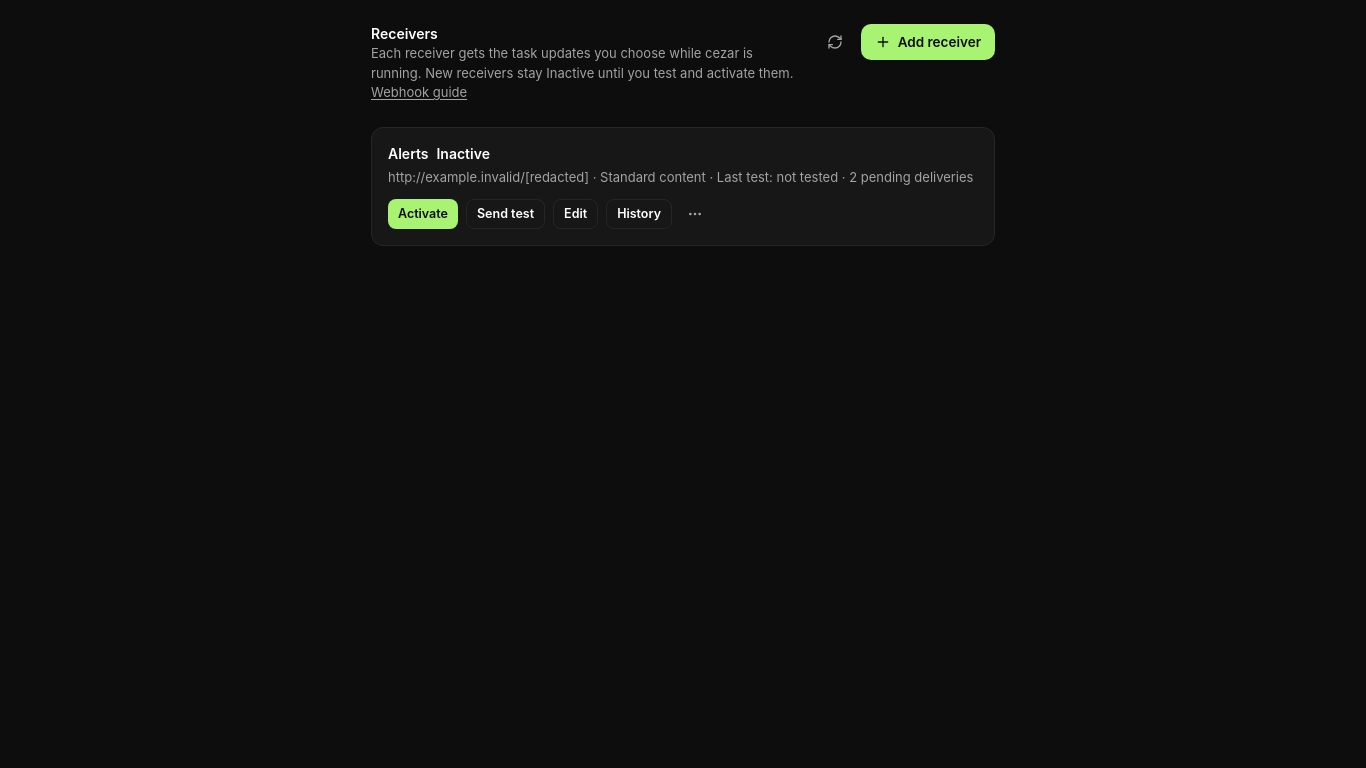
Test: independent webhook UI corrections › keeps stale edits blocked after cancelling review when the receiver was deleted
Click the button "Edit". click: (576, 214)
box: [553,199,598,229]
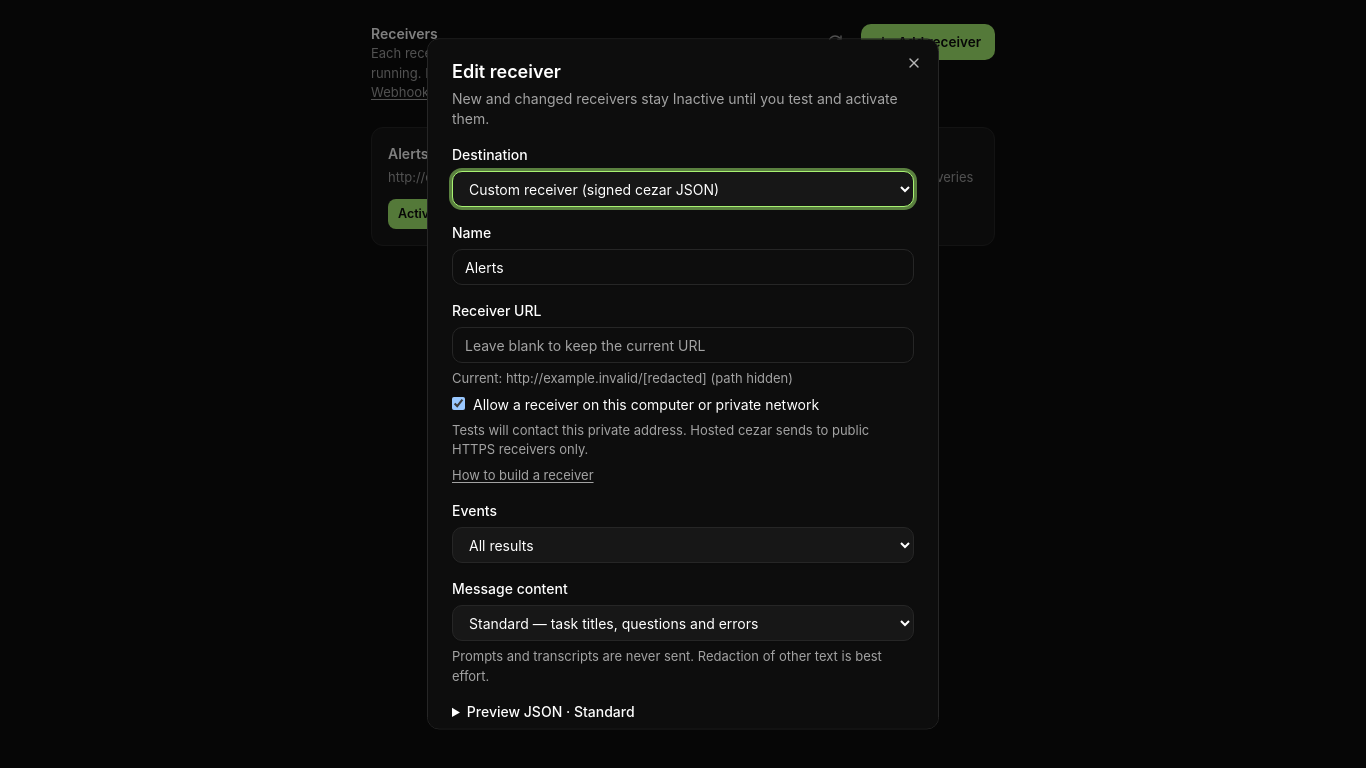
Replace the text in the field labelled "Name" with "My draft". click: (683, 267)
box: [452,249,914,285]
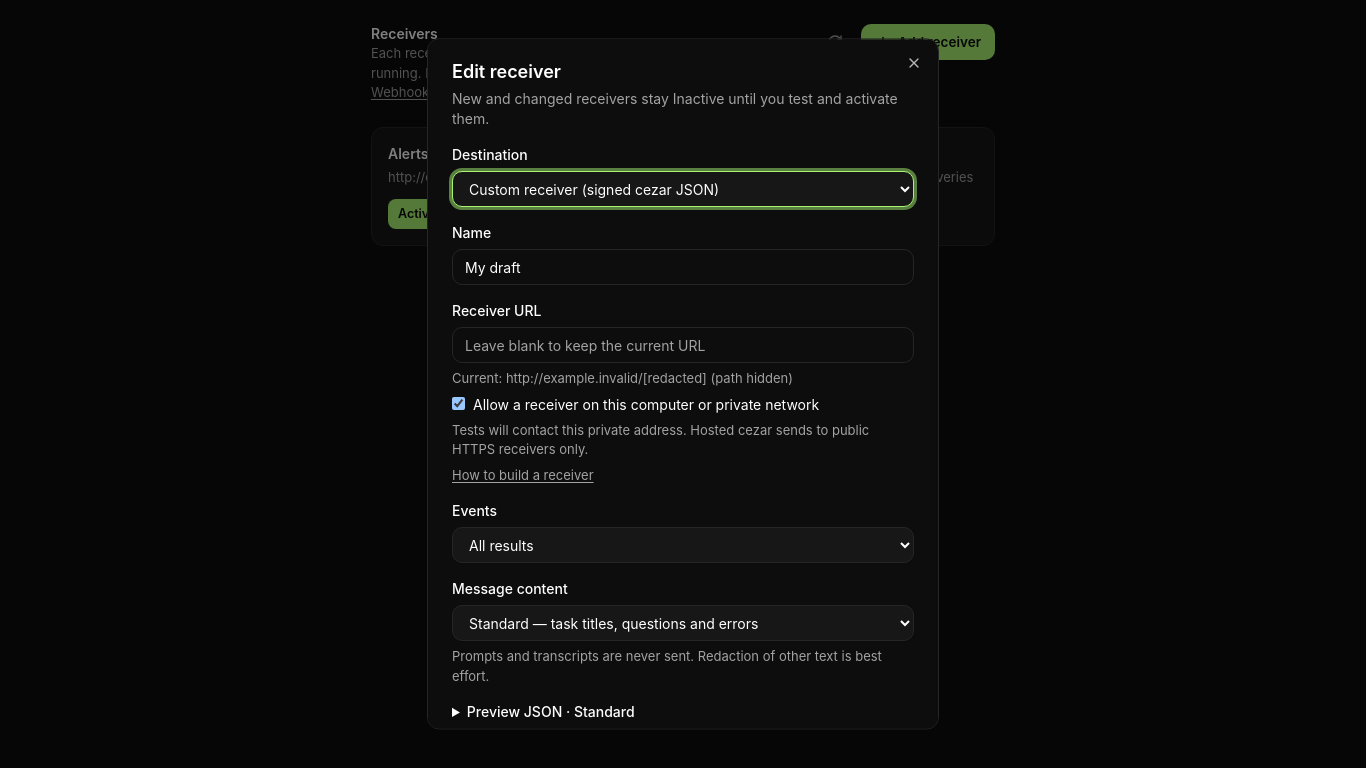
Type "https://replacement.invalid/private-fixture" into the field labelled "Receiver URL". click: (683, 345)
box: [452,327,914,363]
(page scrolled)
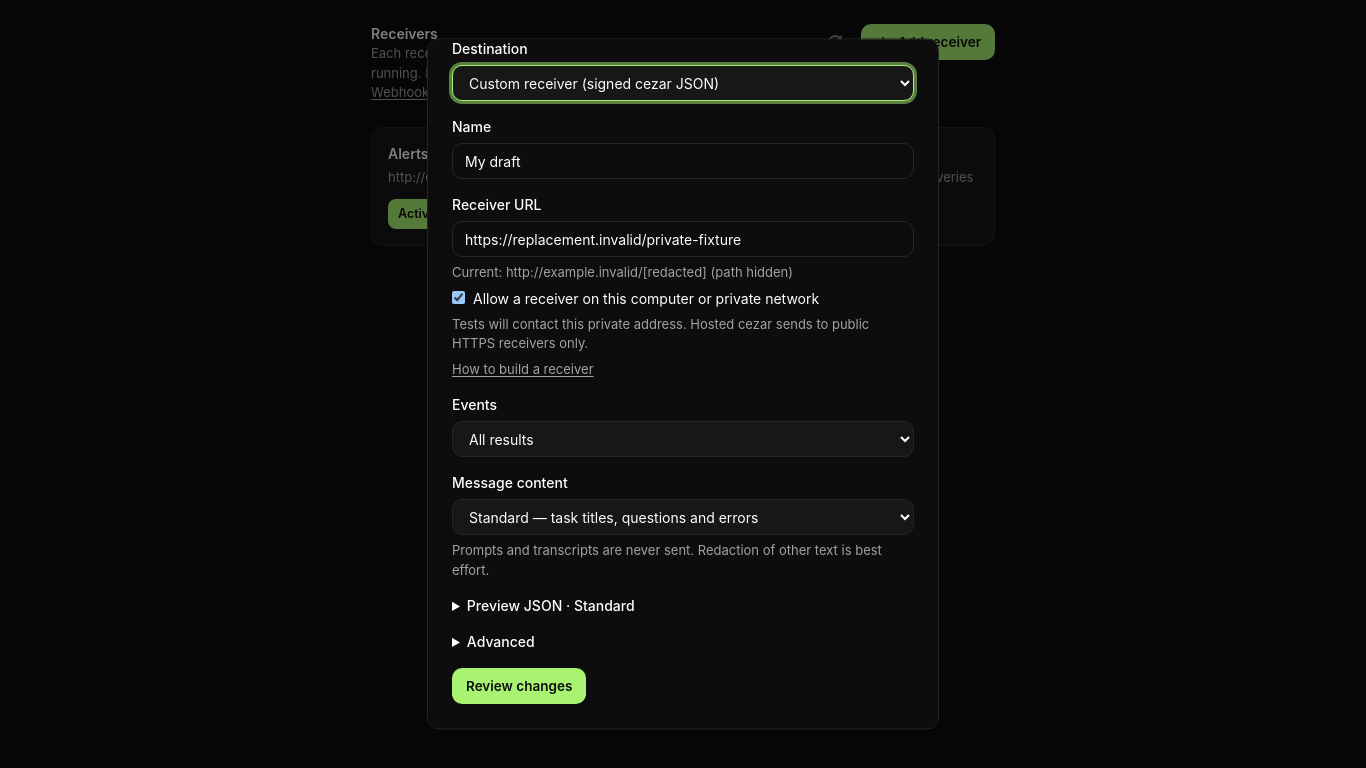
Click the button "Review changes". click: (519, 686)
box: [452,668,586,704]
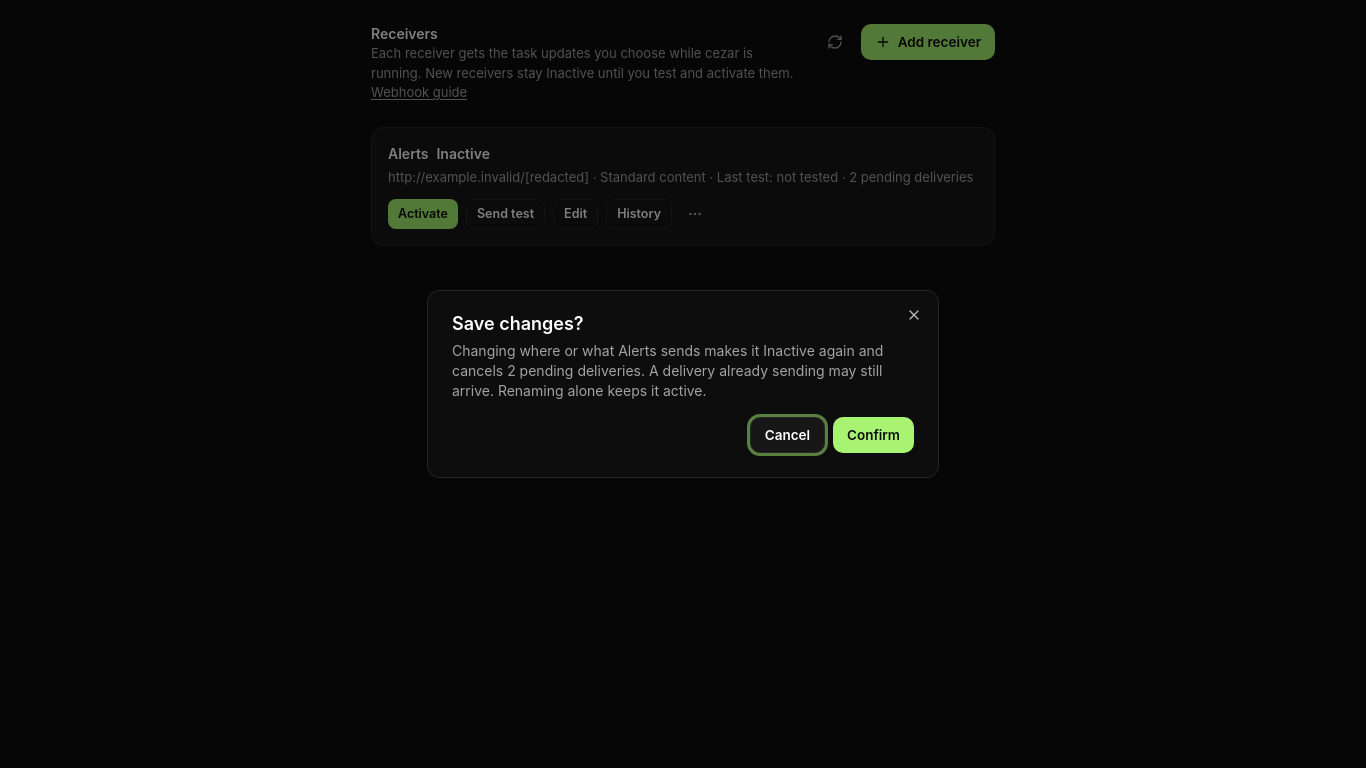
Click the button "Confirm". click: (874, 435)
box: [833,417,914,453]
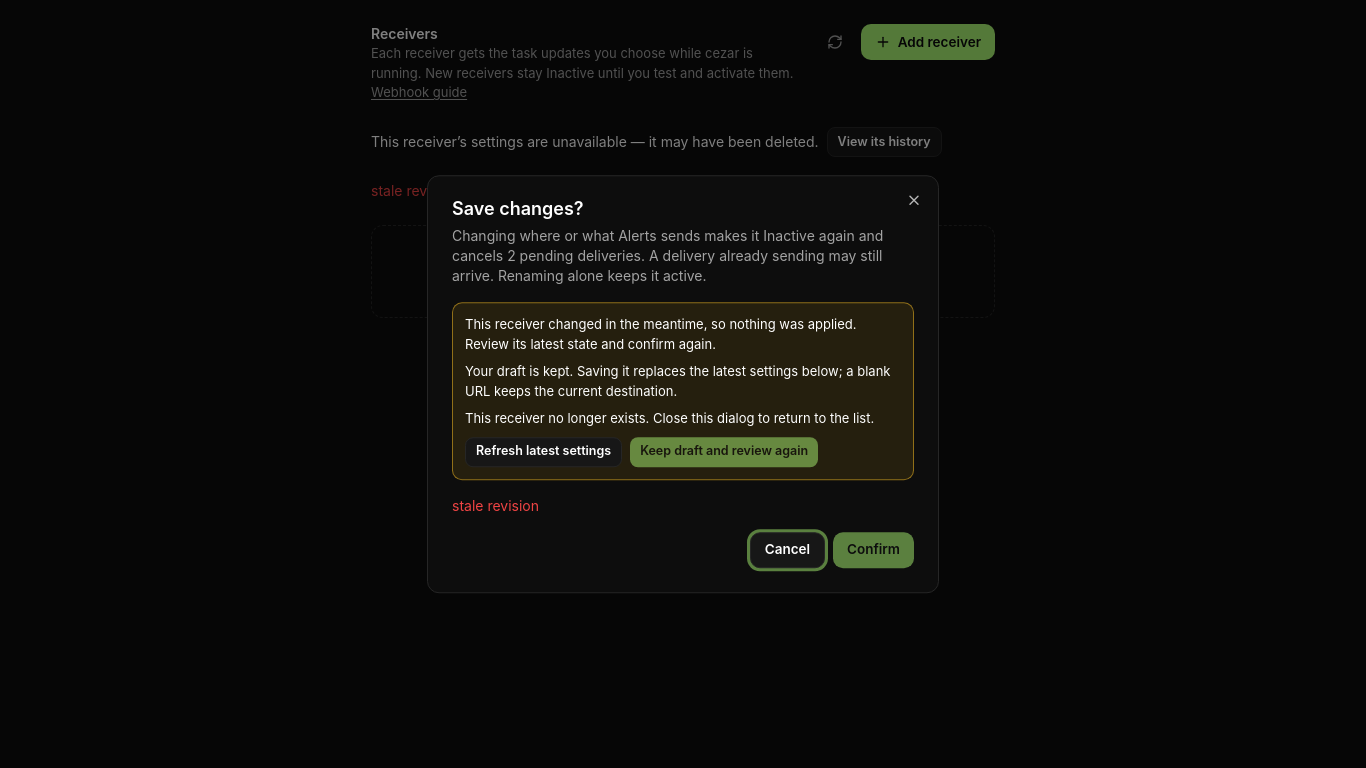
Check: the text "This receiver no longer exists" is shown, box [465,410,874,426]
Click the button "Cancel". click: (787, 550)
box: [750,532,825,568]
(page scrolled)
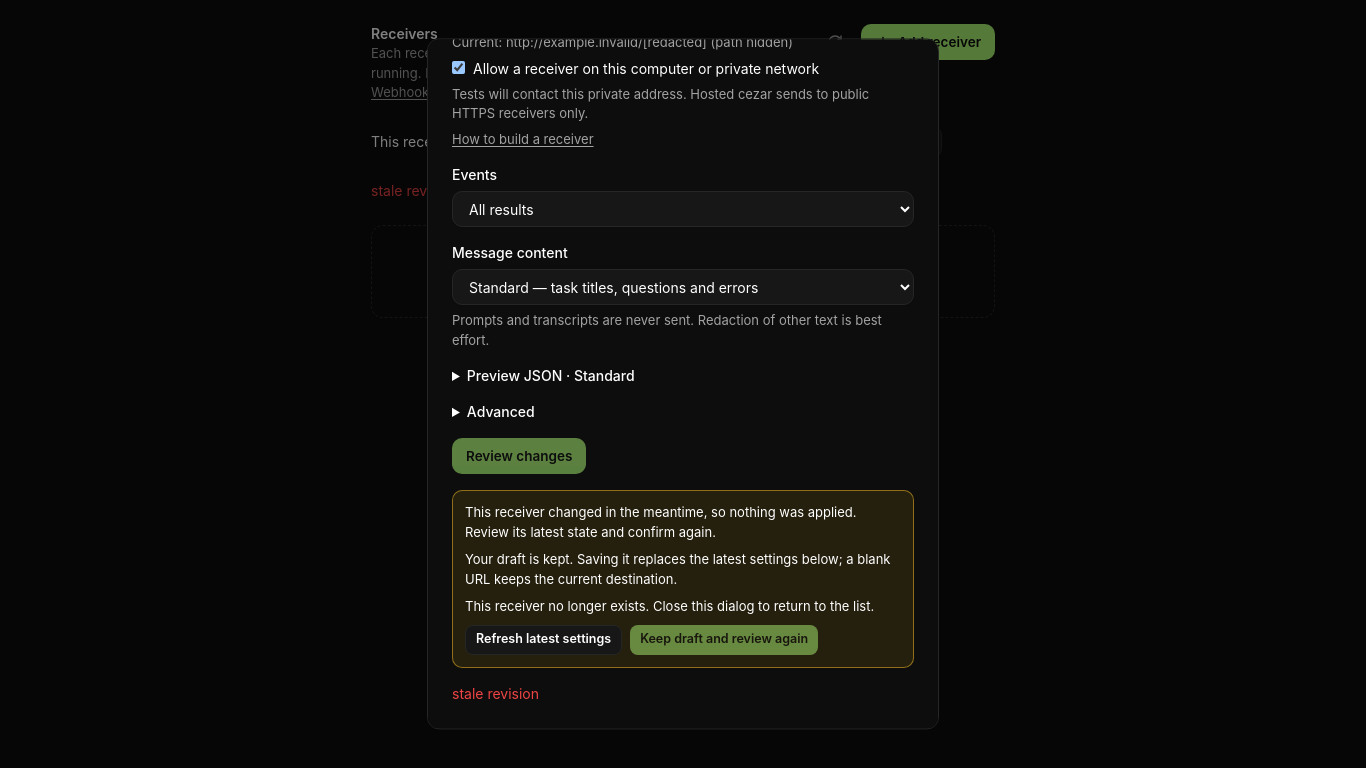
Check: the button "Keep draft and review again" is disabled, box [630,625,818,655]
Check: the button "Review changes" is disabled, box [452,438,586,474]
